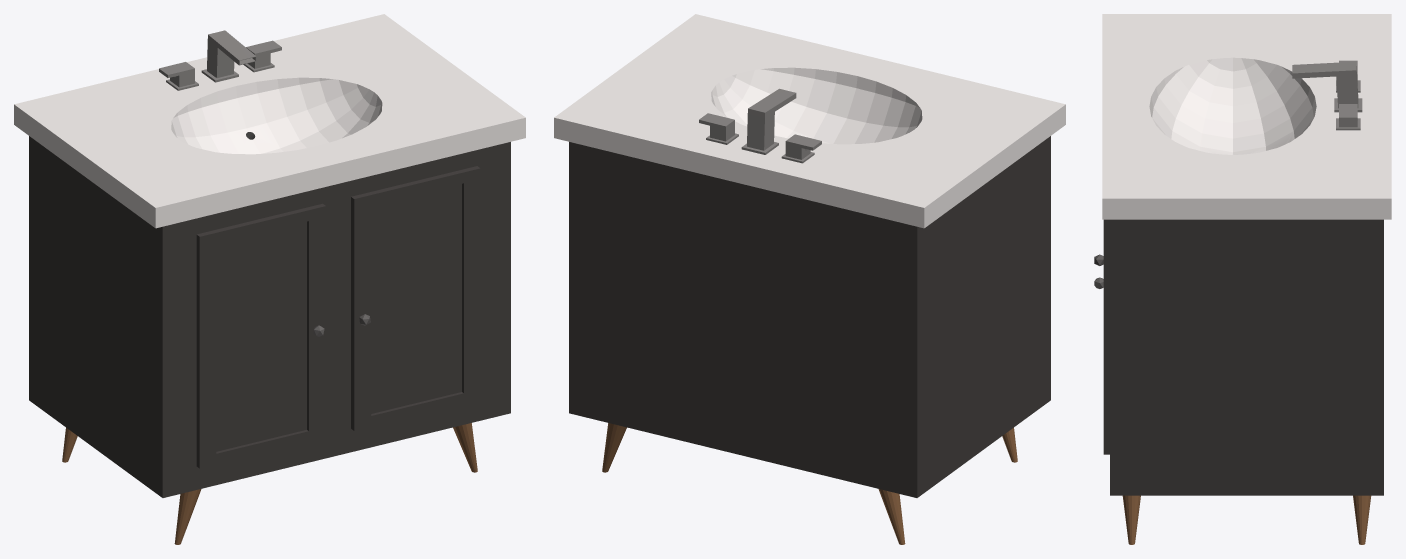
File: Shower Table_09.fbx
3 renders of one model, left to right at view 1: azimuth 30°, elevation 25°; view 2: azimuth 150°, elevation 25°; view 3: azimuth 270°, elevation 25°, orthographic. The views are drawn at different scales.
Visible parts, largest first — view 1: Shower Table_09; view 2: Shower Table_09; view 3: Shower Table_09.
Part boxes in pixels (x1=…): Shower Table_09: x1=14, y1=14, x2=525, y2=544; Shower Table_09: x1=554, y1=14, x2=1065, y2=544; Shower Table_09: x1=1094, y1=14, x2=1391, y2=544.
Bounding box in the file's own units: 98.22 × 100 × 66.84.
